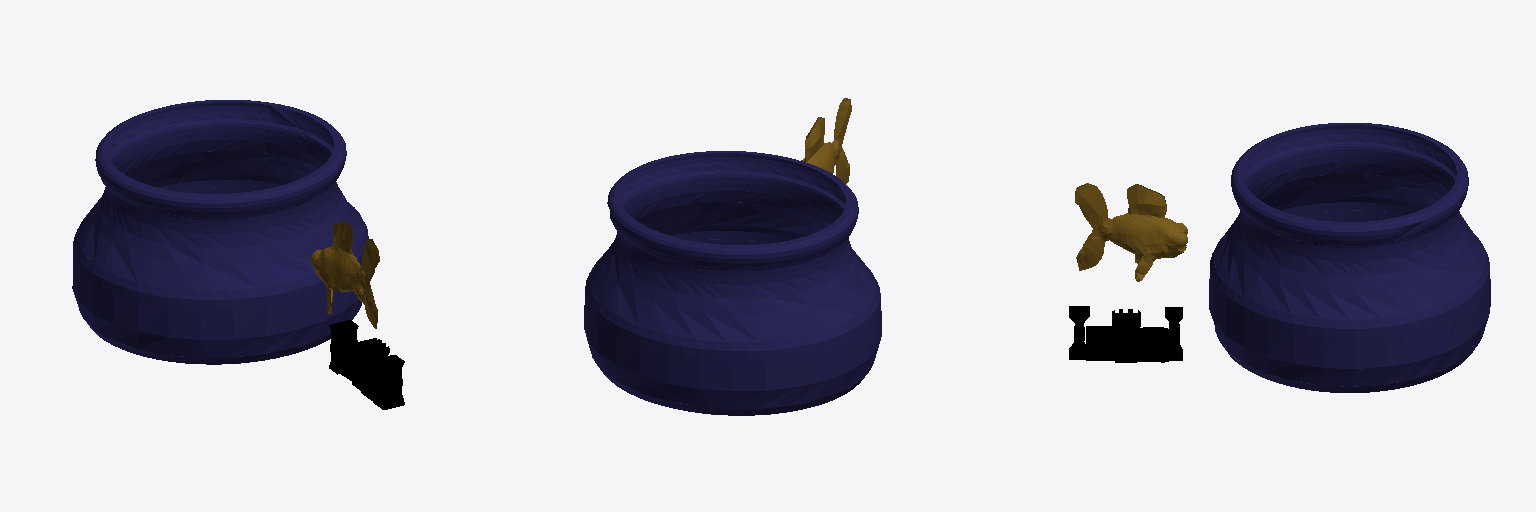
File: FISHBOWL_OBJ.obj
The picture shows the model from 3 angles: view 1: azimuth 30°, elevation 25°; view 2: azimuth 150°, elevation 25°; view 3: azimuth 270°, elevation 25°; orthographic projection.
Parts seen in each view (by area): view 1: revolvedSurface1, polySurface1, pCube3, pCube2, pCube1; view 2: revolvedSurface1, polySurface1; view 3: revolvedSurface1, polySurface1, pCube2, pCube4, pCube5, pCube3, pCube1.
Part boxes in pixels (left/top/right/bottom): revolvedSurface1: left=72, top=100, right=368, bottom=364; polySurface1: left=313, top=221, right=379, bottom=328; pCube3: left=373, top=355, right=404, bottom=409; pCube2: left=350, top=338, right=389, bottom=390; pCube1: left=329, top=320, right=358, bottom=374; revolvedSurface1: left=584, top=151, right=881, bottom=415; polySurface1: left=801, top=98, right=851, bottom=183; revolvedSurface1: left=1209, top=123, right=1490, bottom=392; polySurface1: left=1075, top=183, right=1187, bottom=281; pCube2: left=1112, top=309, right=1140, bottom=362; pCube4: left=1137, top=327, right=1168, bottom=362; pCube5: left=1086, top=326, right=1114, bottom=360; pCube3: left=1069, top=306, right=1089, bottom=359; pCube1: left=1165, top=307, right=1182, bottom=360.
Bounding box in the file's own units: 12 × 7.23 × 16.71.